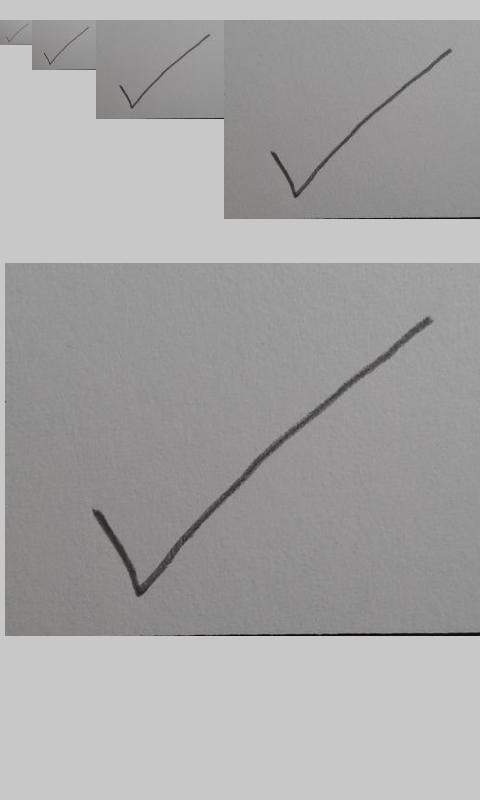check_box: (94, 317, 431, 595), (271, 49, 450, 198), (119, 34, 212, 109), (43, 27, 89, 65), (5, 24, 28, 43)
